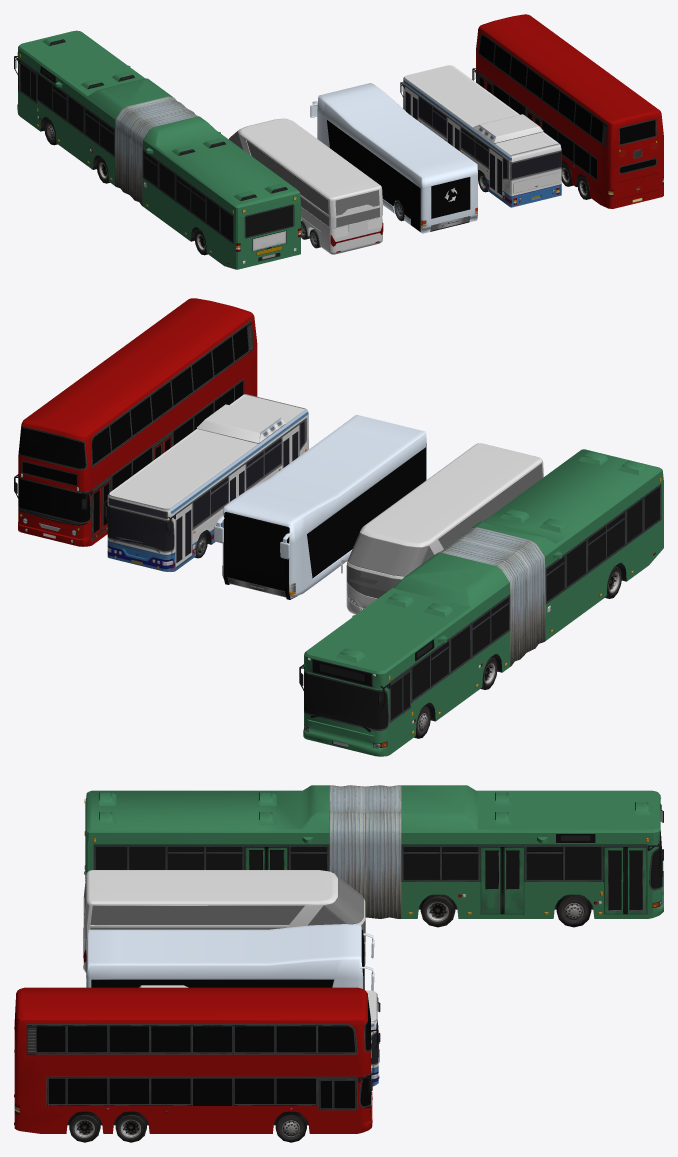
File: BUSES.fbx
3 views of the same model, one above another, from view 1: azimuth 30°, elevation 25°; view 2: azimuth 150°, elevation 25°; view 3: azimuth 270°, elevation 25° (orthographic). The views are drawn at different scales.
Parts seen in each view (by area): view 1: Metro_Body, Decker_Body, Local_Bus_Body, BODY_2, tayye_20160716_2125:Body, tayye_20160716_2125:Black_glass, R_GLASS, BACK_WINDOW, B_2; view 2: Metro_Body, Decker_Body, Local_Bus_Body, BODY_2, tayye_20160716_2125:Body, tayye_20160716_2125:Black_glass, R_GLASS, WIND_SCREEN, Wind_screen, Local_Front_Doors, BORDER_2; view 3: Metro_Body, Decker_Body, BODY_2, tayye_20160716_2125:Body, tayye_20160716_2125:Black_glass, Metro_Middle_Doors, Metro_Front_Doors, L_GLASS, Metro_Back_Doors, Local_Bus_Body, Tire_6, Tire_5 (+3 smaller).
Part boxes in pixels (left/top/right/bottom): Metro_Body: left=14, top=30, right=300, bottom=269; Decker_Body: left=472, top=14, right=663, bottom=208; Local_Bus_Body: left=400, top=65, right=561, bottom=207; BODY_2: left=317, top=83, right=477, bottom=233; tayye_20160716_2125:Body: left=238, top=118, right=382, bottom=254; tayye_20160716_2125:Black_glass: left=228, top=130, right=379, bottom=227; R_GLASS: left=327, top=120, right=410, bottom=218; BACK_WINDOW: left=431, top=177, right=470, bottom=218; B_2: left=411, top=181, right=420, bottom=231; Metro_Body: left=299, top=449, right=663, bottom=756; Decker_Body: left=14, top=298, right=257, bottom=546; Local_Bus_Body: left=103, top=394, right=308, bottom=571; BODY_2: left=222, top=414, right=426, bottom=598; tayye_20160716_2125:Body: left=346, top=443, right=543, bottom=614; tayye_20160716_2125:Black_glass: left=347, top=463, right=542, bottom=576; R_GLASS: left=307, top=456, right=413, bottom=578; WIND_SCREEN: left=227, top=516, right=285, bottom=591; Wind_screen: left=346, top=565, right=400, bottom=598; Local_Front_Doors: left=175, top=503, right=192, bottom=567; BORDER_2: left=223, top=512, right=297, bottom=599; Metro_Body: left=84, top=785, right=663, bottom=918; Decker_Body: left=14, top=987, right=372, bottom=1133; BODY_2: left=86, top=924, right=363, bottom=988; tayye_20160716_2125:Body: left=83, top=870, right=365, bottom=972; tayye_20160716_2125:Black_glass: left=84, top=874, right=363, bottom=929; Metro_Middle_Doors: left=480, top=847, right=524, bottom=914; Metro_Front_Doors: left=604, top=847, right=647, bottom=914; L_GLASS: left=116, top=979, right=333, bottom=987; Metro_Back_Doors: left=244, top=847, right=288, bottom=869; Local_Bus_Body: left=139, top=985, right=380, bottom=1086; Tire_6: left=420, top=894, right=455, bottom=927; Tire_5: left=556, top=894, right=591, bottom=927.
Size of the model in its own units: 162 by 36.24 by 173.
Materials: 33 (23 with a texture image).
